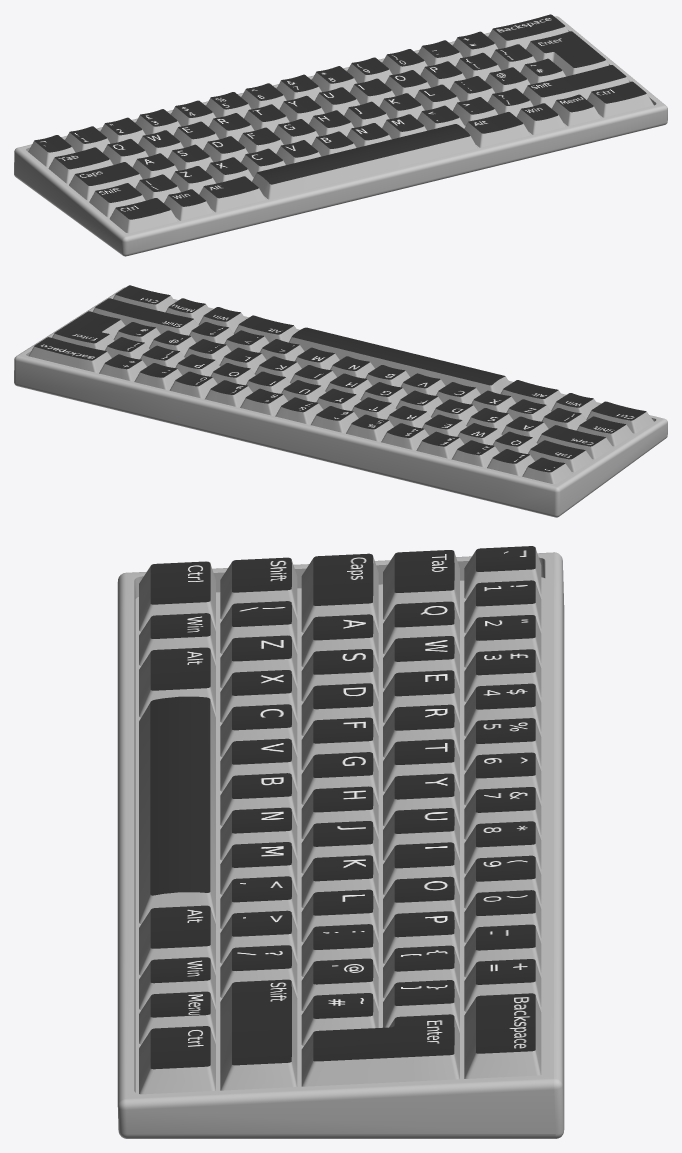
The model's file is keyboard_uk-compact-angled.obj.
3 renders of one model, top to bottom at view 1: azimuth 30°, elevation 25°; view 2: azimuth 150°, elevation 25°; view 3: azimuth 270°, elevation 25°, orthographic. The views are drawn at different scales.
Visible parts, largest first — view 1: keyboard_uk-compact-angled.obj; view 2: keyboard_uk-compact-angled.obj; view 3: keyboard_uk-compact-angled.obj.
Boxes of the visible parts, x1=… form: keyboard_uk-compact-angled.obj: x1=14, y1=14, x2=667, y2=256; keyboard_uk-compact-angled.obj: x1=14, y1=285, x2=667, y2=517; keyboard_uk-compact-angled.obj: x1=117, y1=546, x2=564, y2=1138.
Bounding box in the file's own units: 0.294 × 0.0198 × 0.1042.
